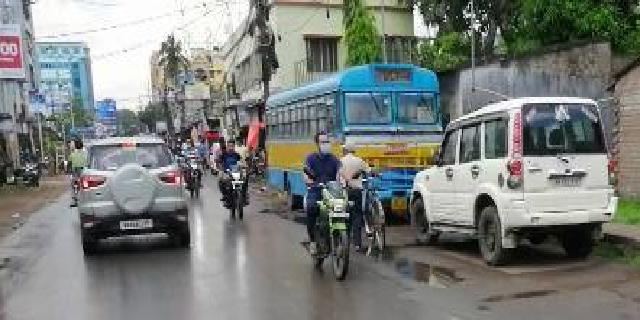Bus: (264, 58, 447, 205)
Car: (407, 96, 624, 266), (77, 135, 190, 251)
Motorbike: (306, 132, 352, 282), (220, 134, 248, 227), (179, 137, 209, 198)
